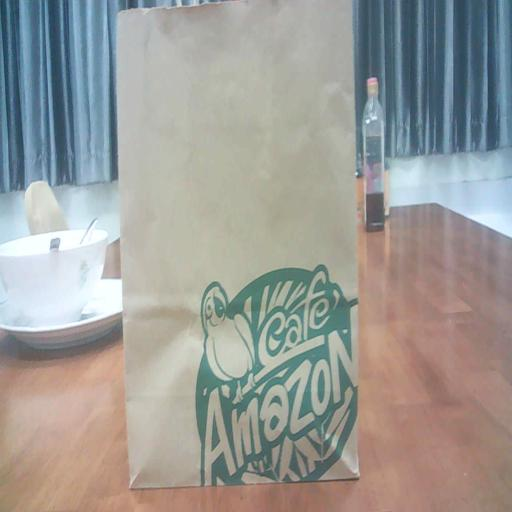bag: (114, 0, 363, 498)
